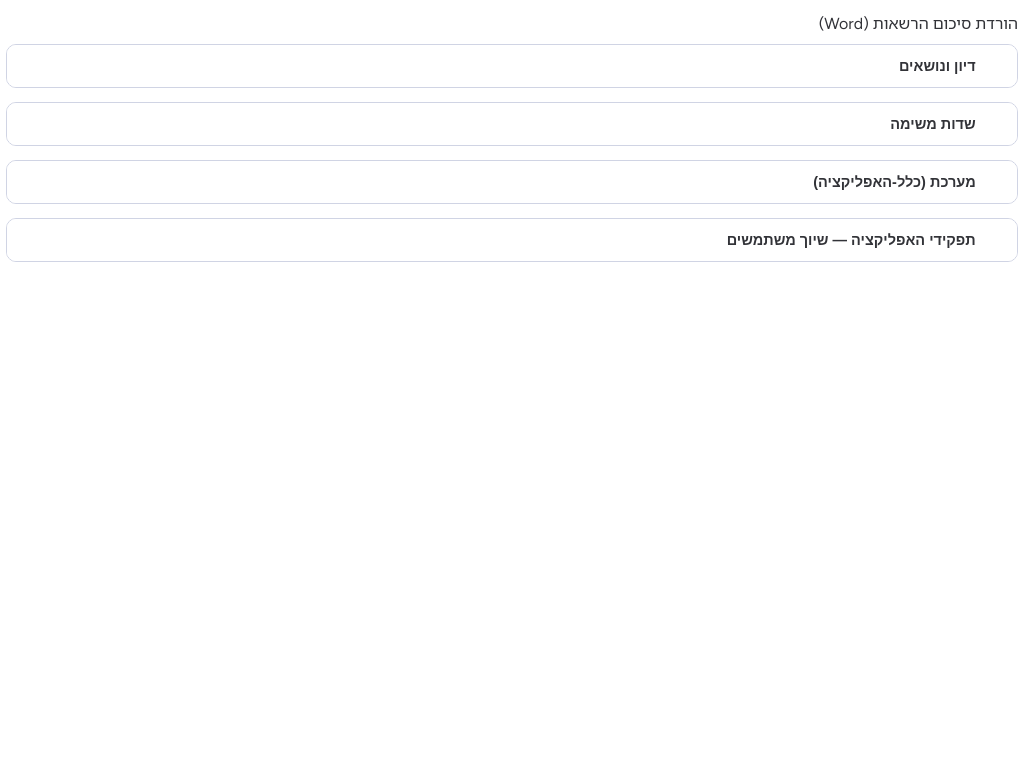
round332 — section chrome › keeps the app-roles body hidden until the head is clicked
Expected: the text "SUPER MEMBERS" is not shown
Click the button "תפקידי האפליקציה — שיוך משתמשים" at (851, 240), box [7,219,1017,261]
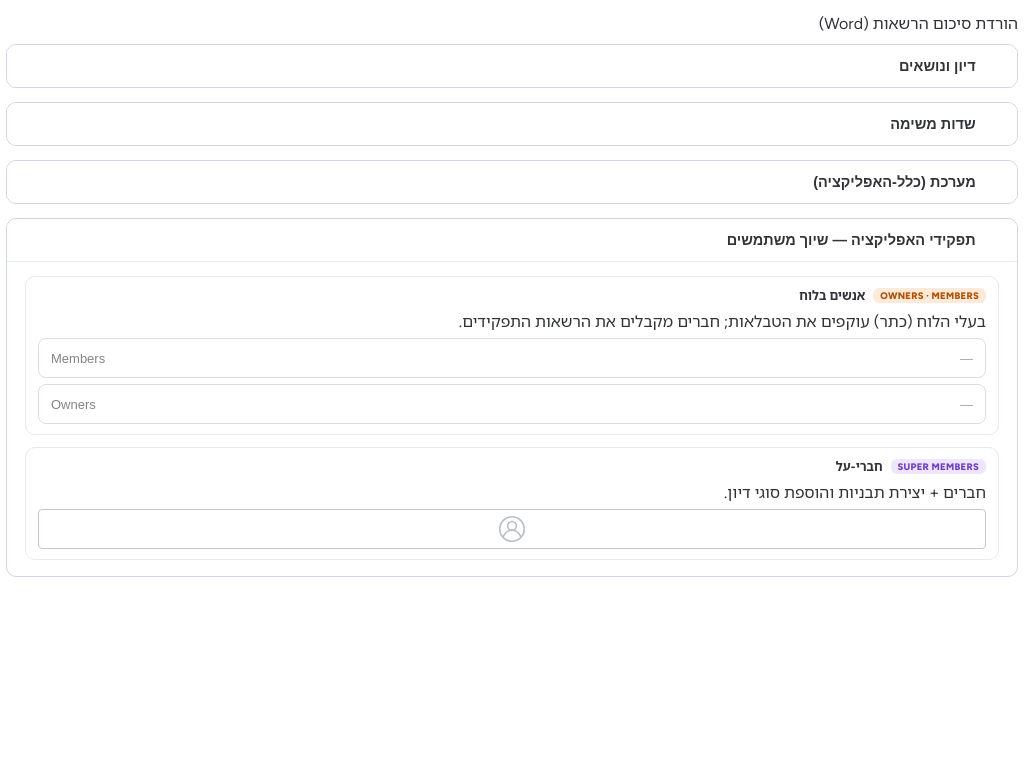
Now the text "SUPER MEMBERS" is shown, box [890,459,986,474]
